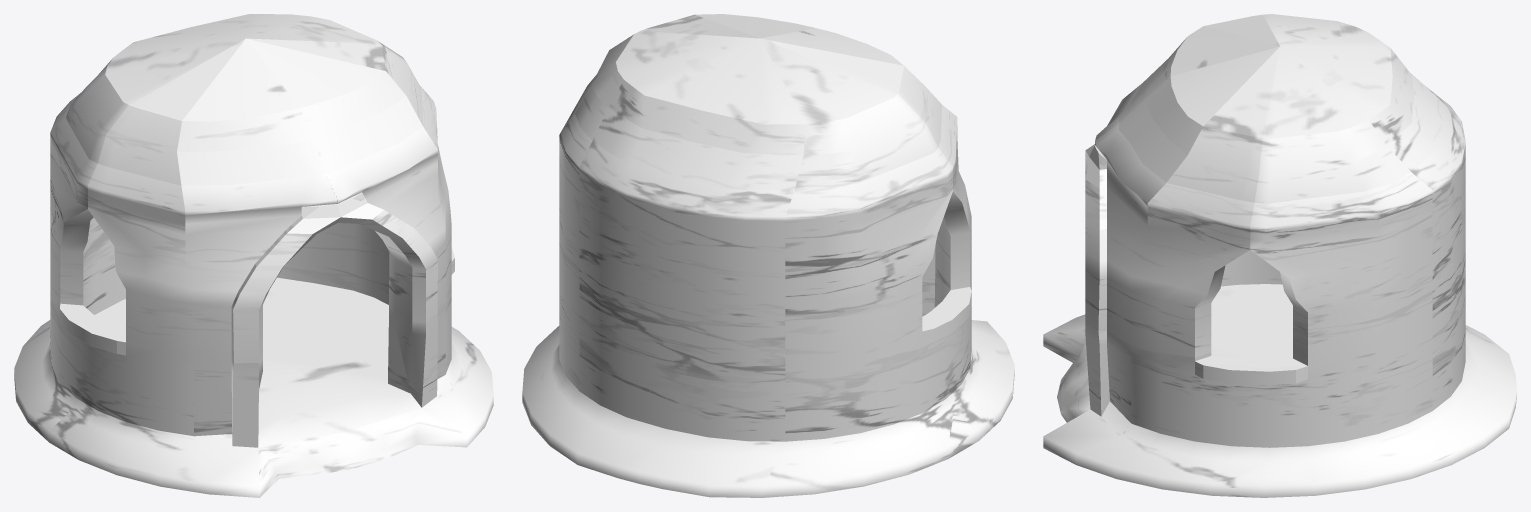
File: Small House.fbx
The picture shows the model from 3 angles, left to right: view 1: azimuth 30°, elevation 25°; view 2: azimuth 150°, elevation 25°; view 3: azimuth 270°, elevation 25°; orthographic projection. The views are drawn at different scales.
Parts seen in each view (by area): view 1: pCylinder1; view 2: pCylinder1; view 3: pCylinder1.
Part boxes in pixels (x1,y1,x2,y2): pCylinder1: [14, 14, 493, 497]; pCylinder1: [522, 14, 1014, 497]; pCylinder1: [1043, 14, 1516, 497].
Bounding box in the file's own units: 2.25 × 1.83 × 2.24.
1 material, 1 textured.
